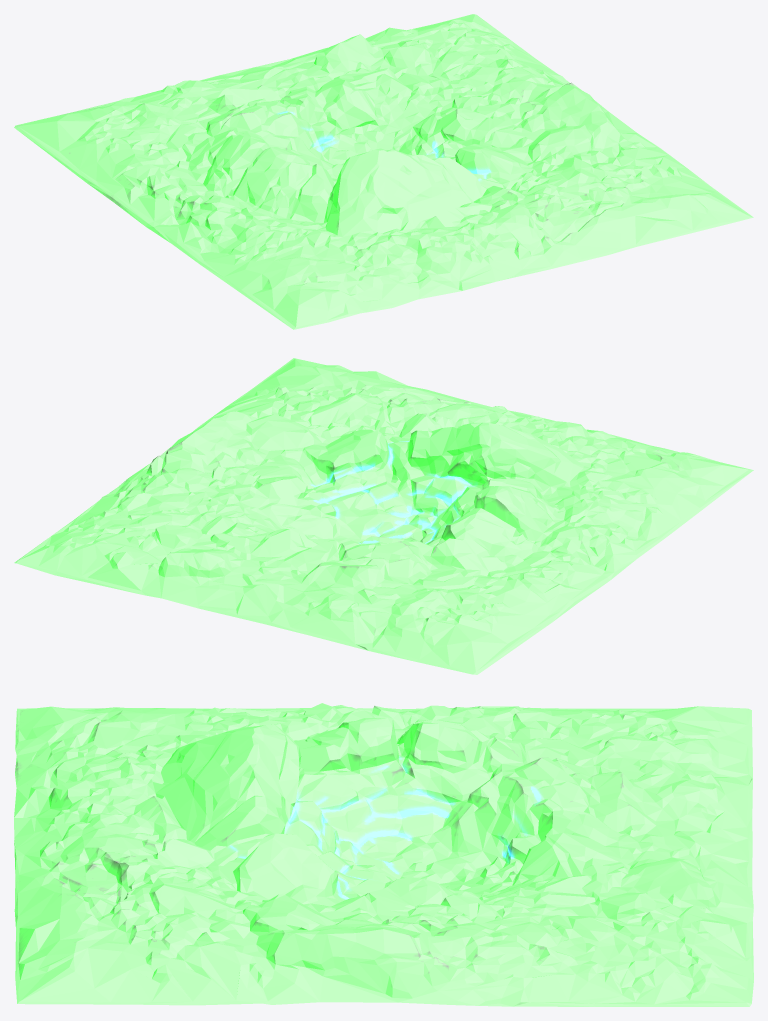
The model's file is DesertLandingCreater.fbx.
The picture shows the model from 3 angles, top to bottom: view 1: azimuth 30°, elevation 25°; view 2: azimuth 150°, elevation 25°; view 3: azimuth 270°, elevation 25°; orthographic projection. The views are drawn at different scales.
Parts seen in each view (by area): view 1: HL_LandingCrater_A.mo; view 2: HL_LandingCrater_A.mo; view 3: HL_LandingCrater_A.mo.
Boxes of the visible parts, x1=… form: HL_LandingCrater_A.mo: x1=14, y1=14, x2=753, y2=329; HL_LandingCrater_A.mo: x1=14, y1=358, x2=753, y2=674; HL_LandingCrater_A.mo: x1=14, y1=703, x2=753, y2=1006.
Size of the model in its own units: 2597 by 481 by 2726.
